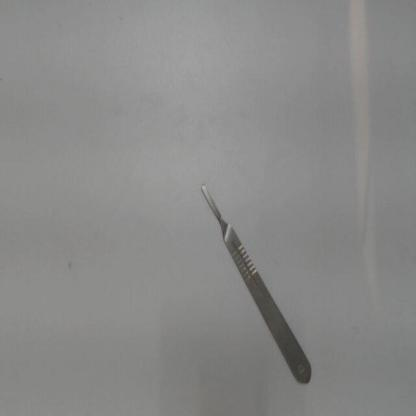No.4 BP Handle: (186, 169, 323, 398)
